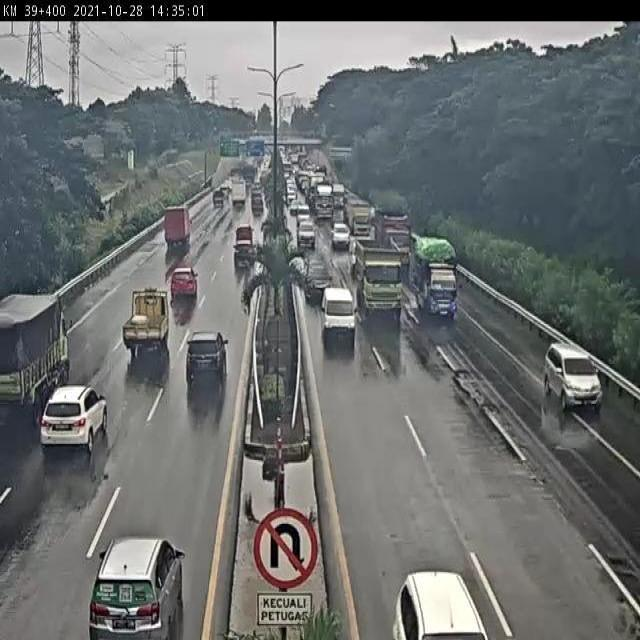big truck: (0, 288, 81, 412), (355, 243, 405, 320), (373, 196, 416, 243)
car: (81, 530, 191, 640), (376, 550, 490, 638), (38, 377, 116, 495), (541, 330, 610, 414), (177, 323, 235, 404), (321, 285, 359, 355), (162, 263, 204, 313), (291, 211, 320, 248), (303, 255, 329, 288), (328, 215, 351, 248), (231, 224, 259, 247), (232, 256, 257, 281)
small truck: (403, 231, 457, 317), (120, 282, 176, 362), (153, 203, 190, 257)
